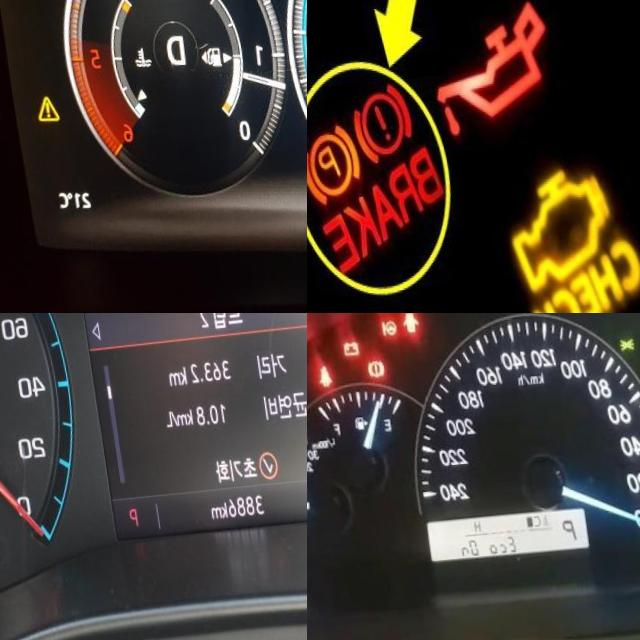Central Warning lamp: (26, 95, 52, 125)
Electronic Power Steering: (377, 323, 393, 341)
Seat Belt: (312, 366, 327, 390)
